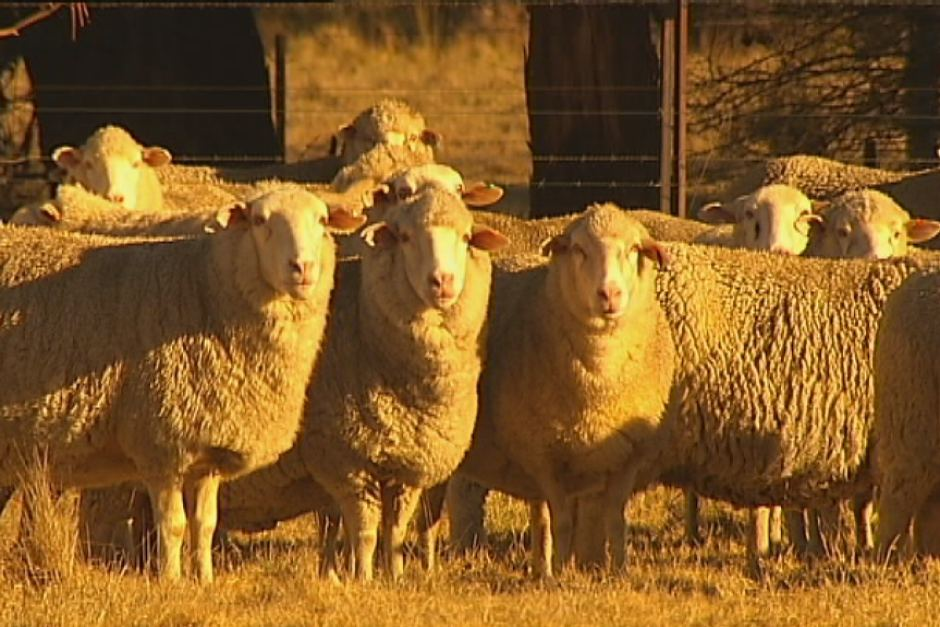sheep: (1, 181, 374, 582), (457, 203, 680, 591), (314, 175, 520, 588), (46, 116, 224, 283), (663, 169, 838, 321)
